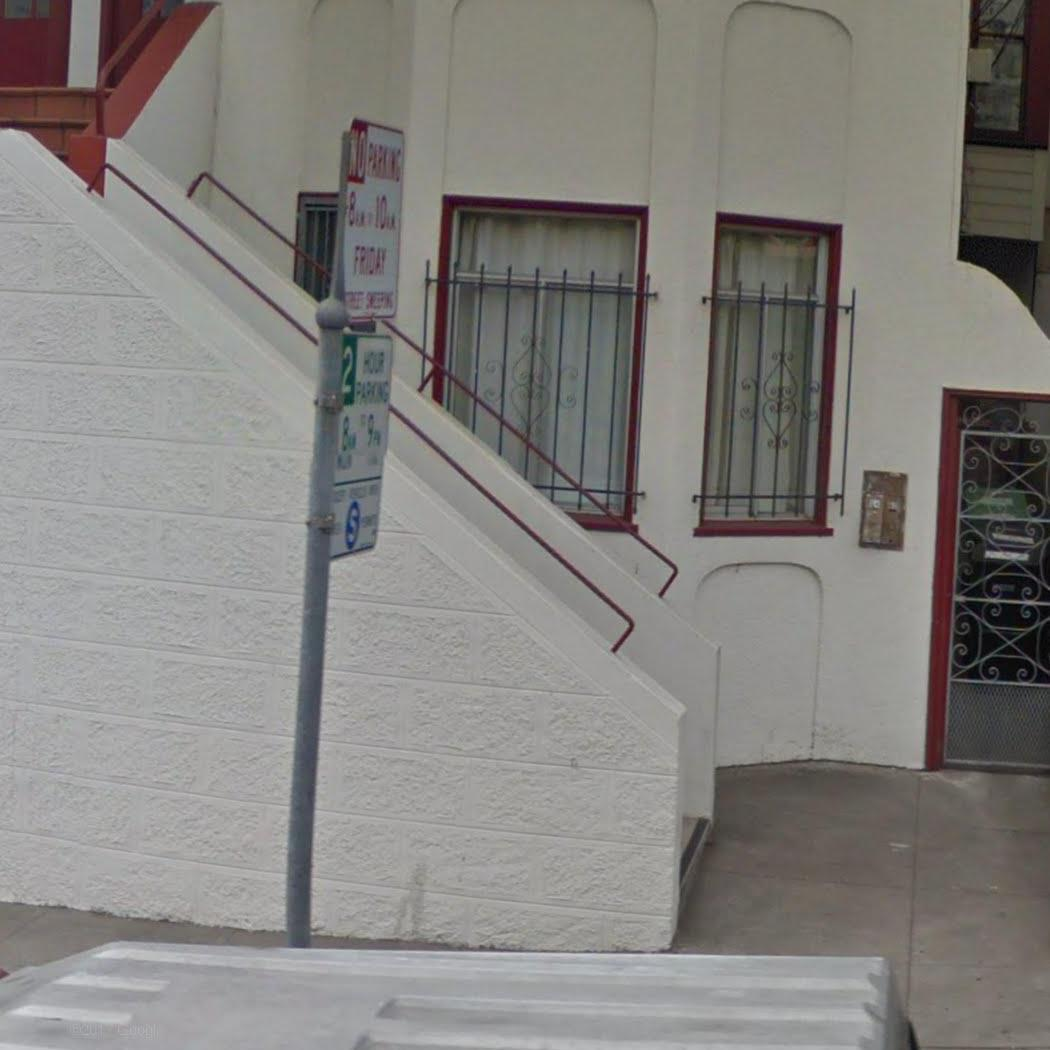2 Hour Parking: (319, 327, 399, 566)
No Parking: (337, 116, 409, 326)
